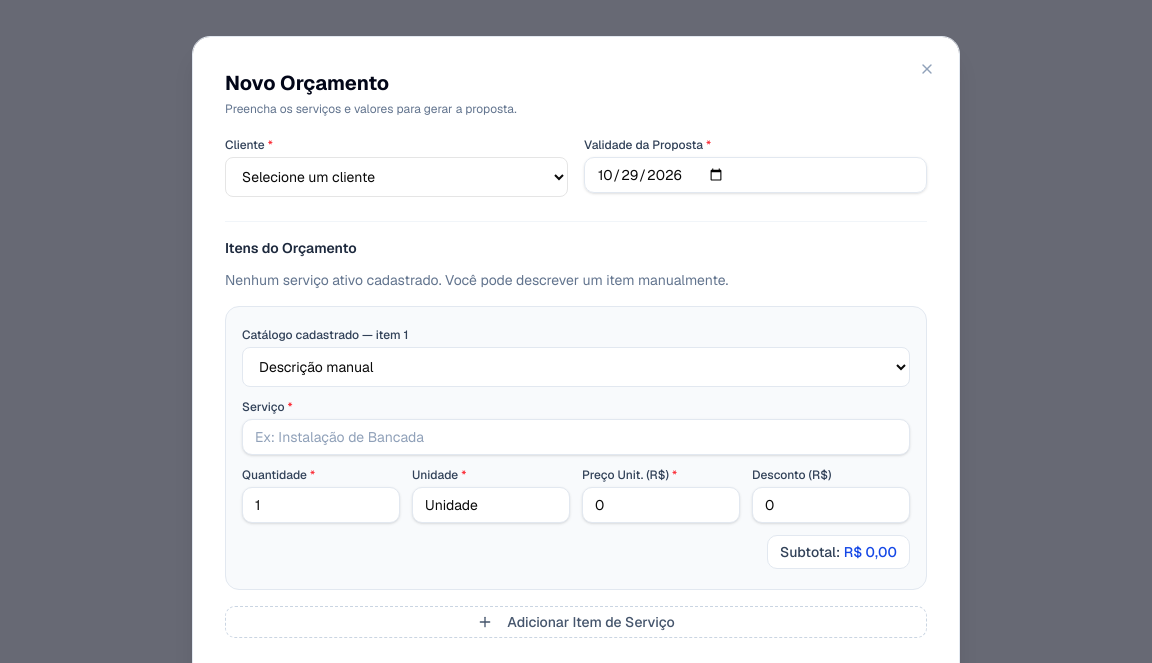
Test: QuotationModal › validates missing customer on submit
Replace the text in the number field labelled "Preço Unit. (R$) *" with "100" at (661, 505), box [582,487,740,523]
(page scrolled)
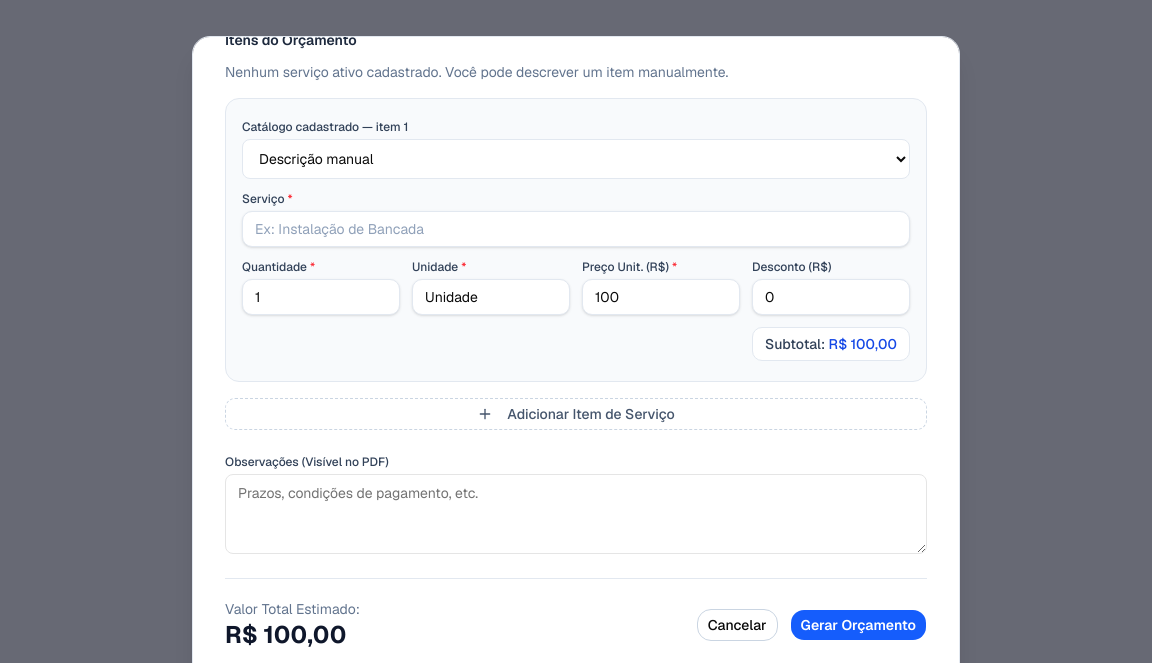
Click the button "Gerar Orçamento" at (858, 625), box [790,609,927,641]
(page scrolled)
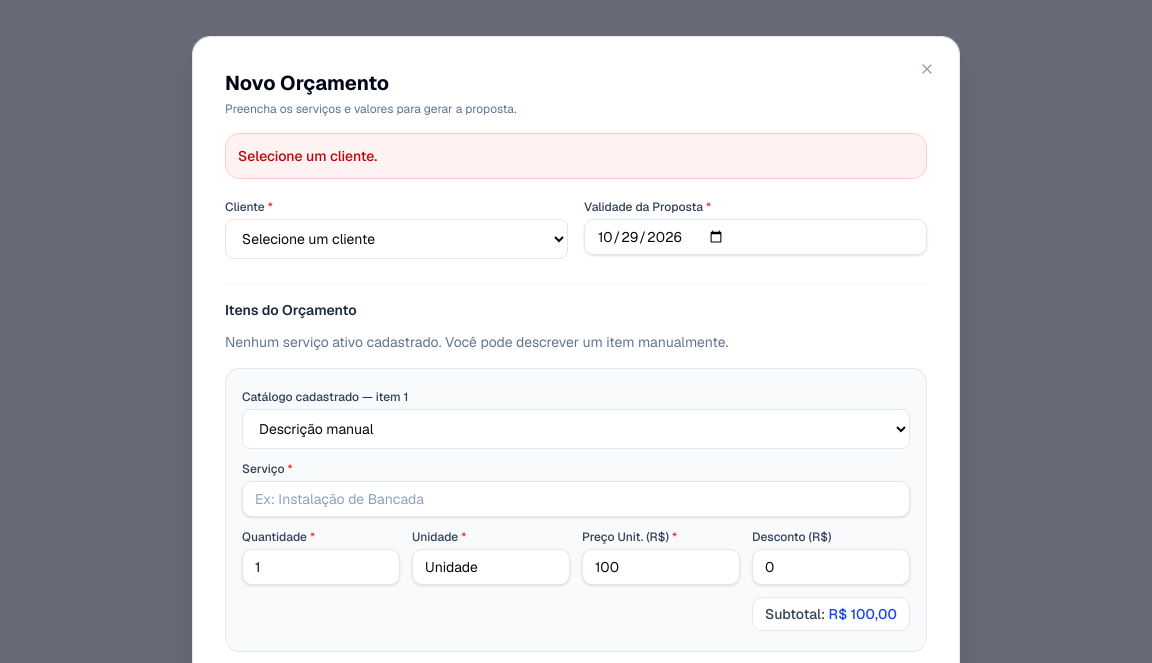
Now the message reads "Selecione um cliente.", box [238,147,377,165]
